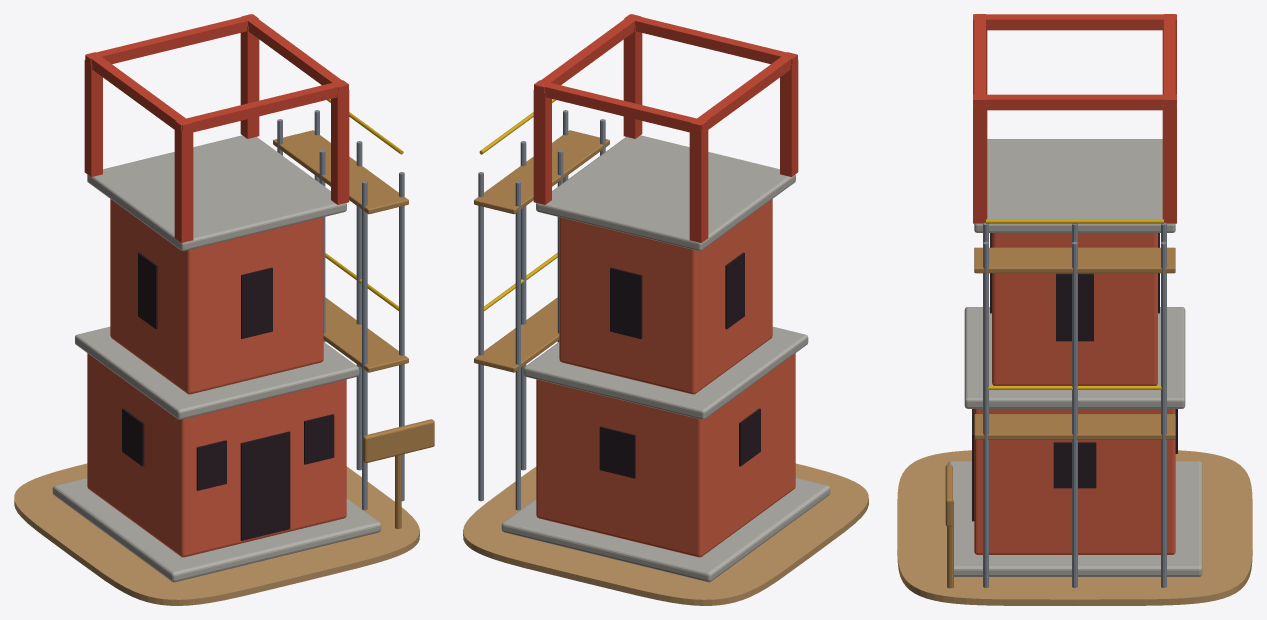
File: clock-tower-stage-2-merged.f1bb526f.glb
3 renders of one model, left to right at view 1: azimuth 30°, elevation 25°; view 2: azimuth 150°, elevation 25°; view 3: azimuth 270°, elevation 25°, orthographic. The views are drawn at different scales.
Parts seen in each view (by area): view 1: ClockTower_Stage2__T_vcol, ClockTower_Stage2__T_brickwall; view 2: ClockTower_Stage2__T_vcol, ClockTower_Stage2__T_brickwall; view 3: ClockTower_Stage2__T_vcol, ClockTower_Stage2__T_brickwall.
Part boxes in pixels (<box>): ClockTower_Stage2__T_vcol: <box>14,14,434,605</box>; ClockTower_Stage2__T_brickwall: <box>87,199,346,557</box>; ClockTower_Stage2__T_vcol: <box>463,14,868,605</box>; ClockTower_Stage2__T_brickwall: <box>536,199,795,557</box>; ClockTower_Stage2__T_vcol: <box>897,14,1252,605</box>; ClockTower_Stage2__T_brickwall: <box>974,233,1175,554</box>.
Size of the model in its own units: 4.98 by 7.06 by 4.8.
